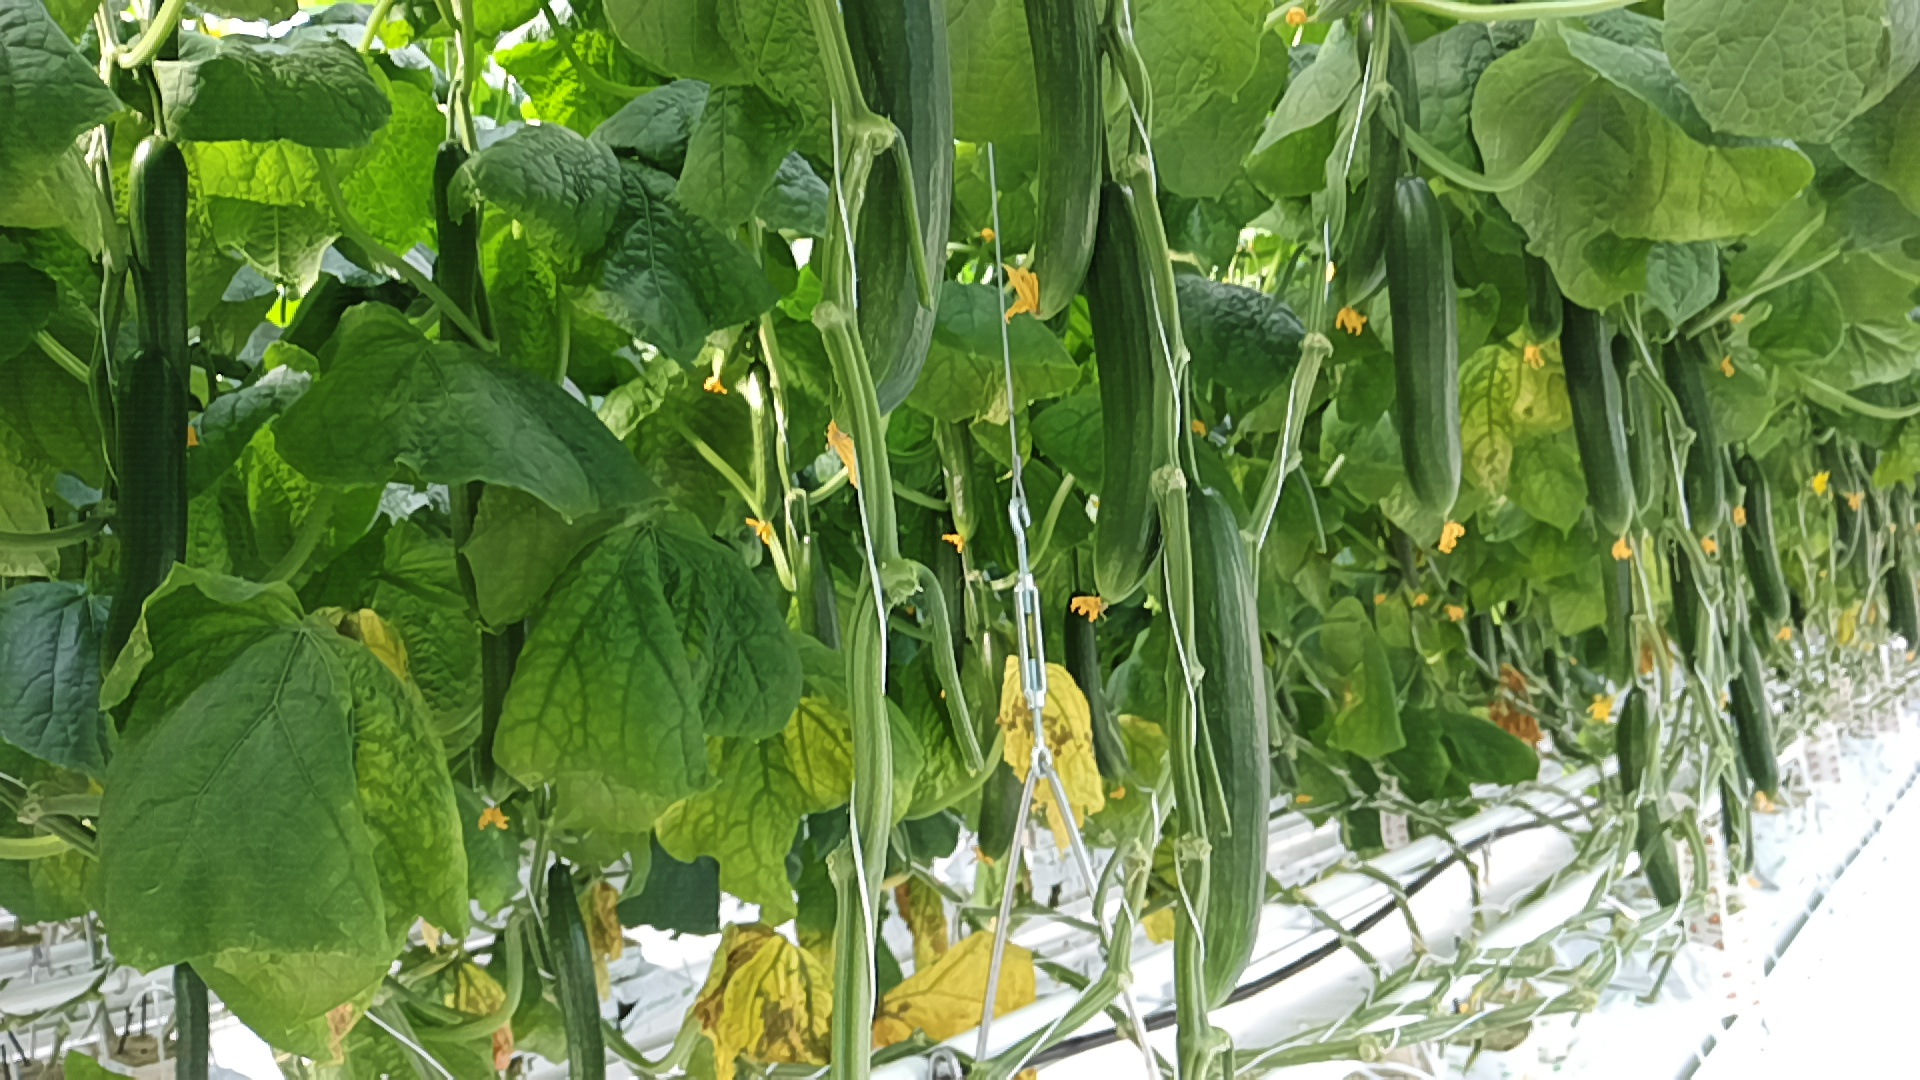gurka: (1042, 154, 1220, 615), (1160, 465, 1276, 1022), (1382, 162, 1484, 522), (1607, 680, 1697, 913), (1729, 442, 1804, 629)
